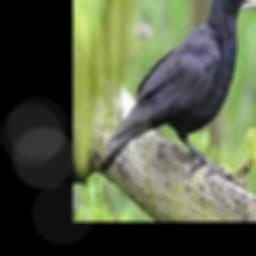Crow: (98, 0, 256, 174)
